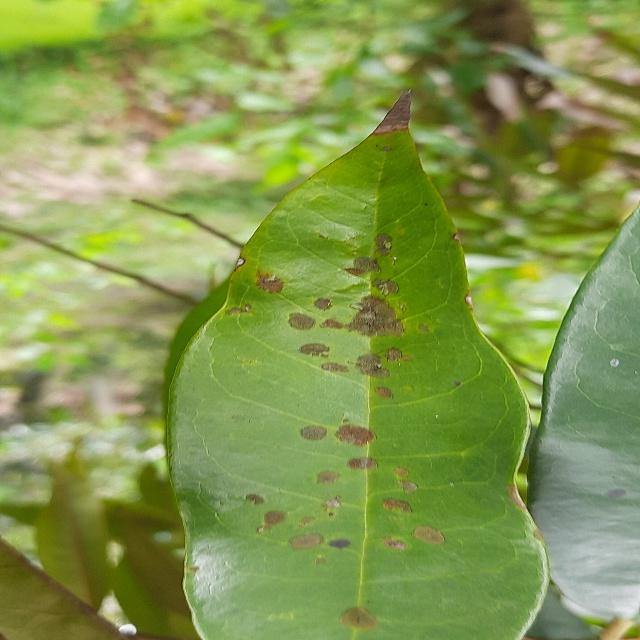Algal Leaf Spot: (155, 74, 557, 640)
